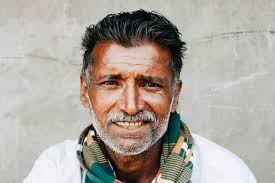Indian_Male: (88, 54, 173, 154)
